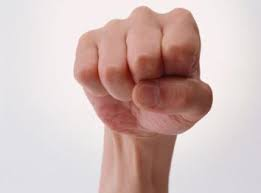fist: (73, 4, 214, 140)
